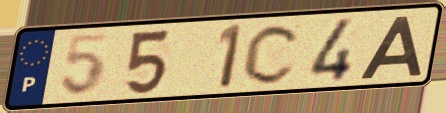1: (215, 22, 244, 90)
4: (306, 14, 360, 84)
5: (121, 26, 176, 95), (57, 33, 112, 99)
A: (356, 13, 424, 81)
C: (239, 21, 305, 87)
